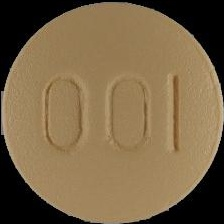63629-4776: (0, 0, 224, 224)
